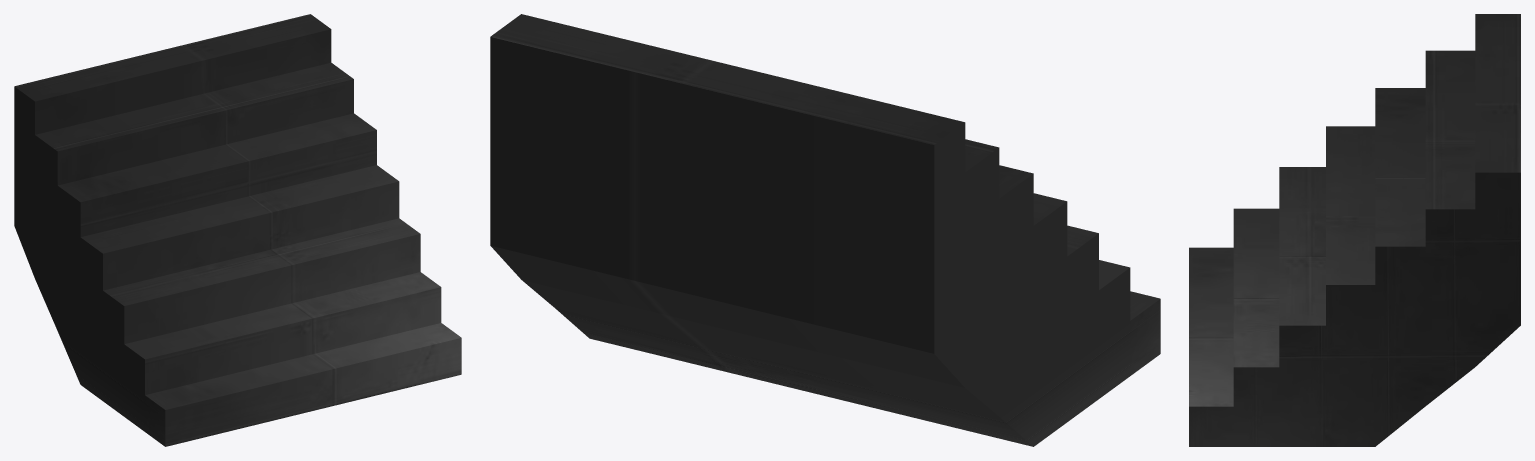
Rendered from Escadas com Textura.fbx.
The picture shows the model from 3 angles, left to right: view 1: azimuth 30°, elevation 25°; view 2: azimuth 150°, elevation 25°; view 3: azimuth 270°, elevation 25°; orthographic projection. The views are drawn at different scales.
Parts seen in each view (by area): view 1: Cube.062; view 2: Cube.062; view 3: Cube.062.
Boxes of the visible parts, x1,y1,x2,y2 form: Cube.062: (14, 14, 461, 446); Cube.062: (490, 14, 1160, 446); Cube.062: (1189, 14, 1520, 446).
Bounding box in the file's own units: 700 × 564 × 618.
Materials: 1 (1 with a texture image).
